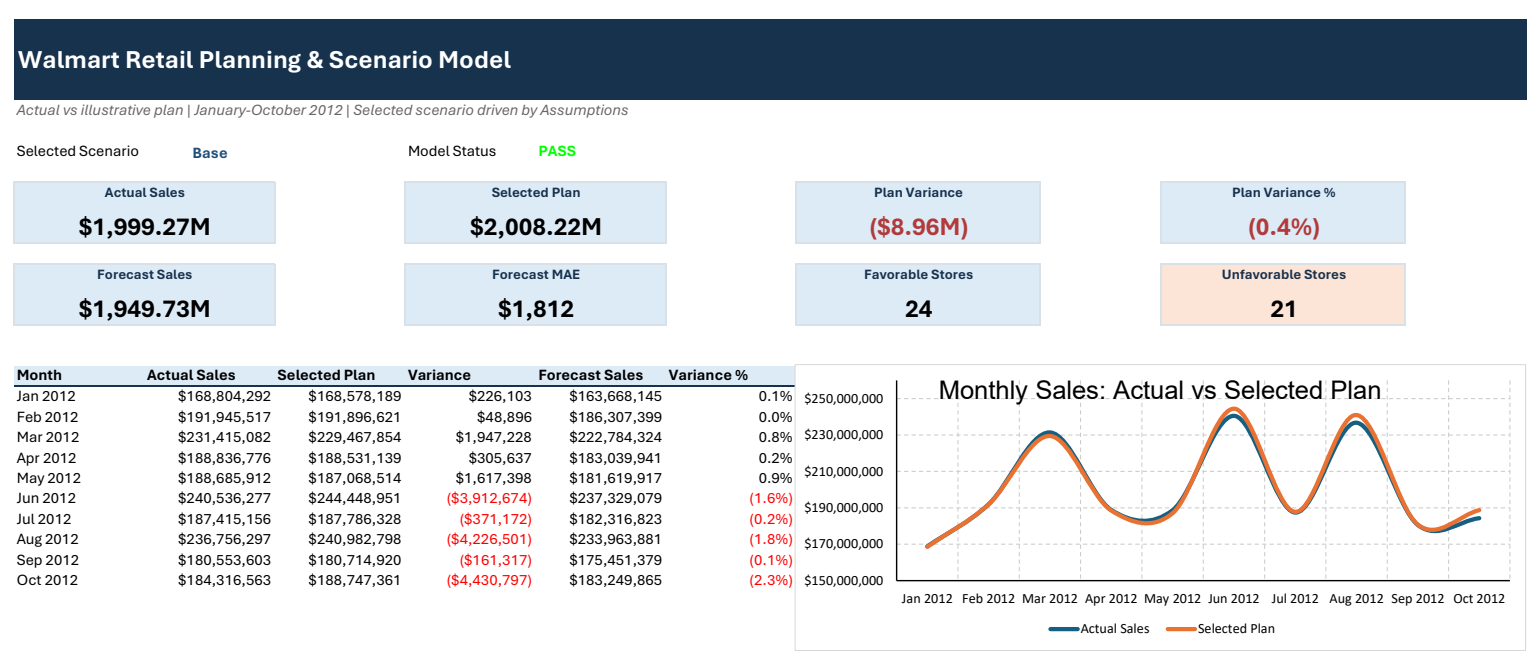

What the dashboard file says about the page in this screenshot:
{"tool":"powerbi","page":{"name":"Executive Summary","canvas":[1280,720],"ordinal":0},"visuals":[{"type":"textbox","box":[0,0,1279.7,71.9],"z":0},{"type":"textbox","box":[0,71.9,1279.7,40.1],"z":1000},{"type":"group","id":"g1","title":"Group 1","box":[0,108.1,1279.7,114.3],"z":2000},{"type":"card","fields":{"Values":["fact_weekly_sales.Actual Sales"]},"box":[0,108.1,255.7,114.3],"z":2000,"group":"g1"},{"type":"card","fields":{"Values":["fact_weekly_sales.Plan Sales"]},"box":[255.7,108.1,255.7,114.3],"z":3000,"group":"g1"},{"type":"lineChart","title":"Weekly Sales Performance","fields":{"Category":["dim_date.Date"],"Y":["fact_weekly_sales.Actual Sales","fact_weekly_sales.Plan Sales","fact_weekly_sales.Forecast Sales"]},"box":[0,222,895.1,497.7],"z":3000},{"type":"card","fields":{"Values":["fact_weekly_sales.Plan Variance %"]},"box":[767.8,108.1,255.9,114.3],"z":4000,"group":"g1"},{"type":"clusteredBarChart","title":"Highest and Lowest Store Plan Variance","fields":{"Category":["dim_store.Store"],"Y":["fact_weekly_sales.Plan Variance"]},"box":[895.1,222,384.9,497.7],"z":4000},{"type":"card","fields":{"Values":["fact_weekly_sales.Plan Variance"]},"box":[511.9,108.1,255.9,114.3],"z":5000,"group":"g1"},{"type":"card","fields":{"Values":["fact_weekly_sales.Forecast MAE"]},"box":[1023.8,108.1,255.9,114.3],"z":6000,"group":"g1"}]}

Visuals, with their boxes on the page's 1280x720 design canvas (x1, y1, x2, y2). These are canvas units, not pixel positions in the 1540x669 screenshot, which may show the page scaled, cropped or inside an application window:
textbox: Rect(0, 0, 1280, 72)
textbox: Rect(0, 72, 1280, 112)
"Group 1" group: Rect(0, 108, 1280, 222)
card - fact_weekly_sales.Actual Sales: Rect(0, 108, 256, 222)
card - fact_weekly_sales.Plan Sales: Rect(256, 108, 511, 222)
"Weekly Sales Performance" lineChart: Rect(0, 222, 895, 720)
card - fact_weekly_sales.Plan Variance %: Rect(768, 108, 1024, 222)
"Highest and Lowest Store Plan Variance" clusteredBarChart: Rect(895, 222, 1280, 720)
card - fact_weekly_sales.Plan Variance: Rect(512, 108, 768, 222)
card - fact_weekly_sales.Forecast MAE: Rect(1024, 108, 1280, 222)
